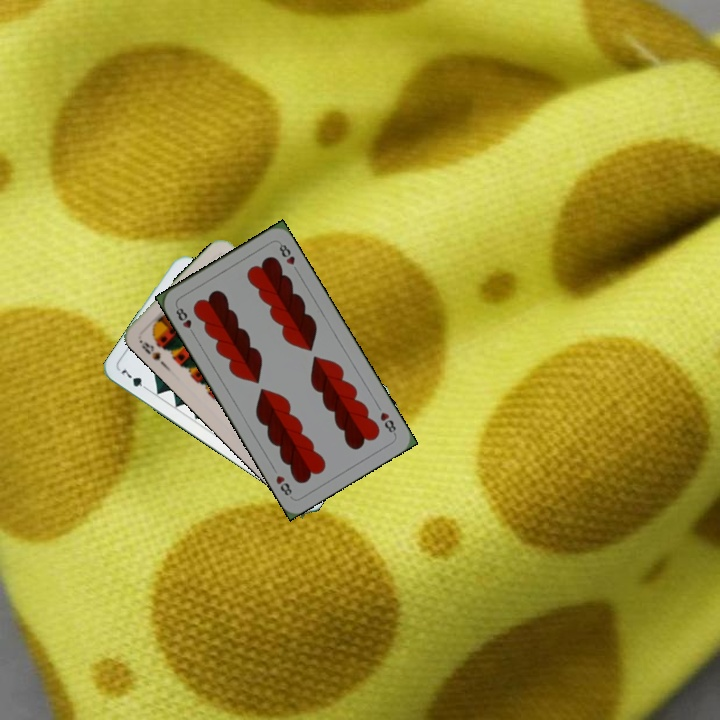G7: (117, 365, 152, 394)
H8: (172, 302, 198, 338), (376, 408, 399, 437)
S8: (135, 335, 163, 363)
